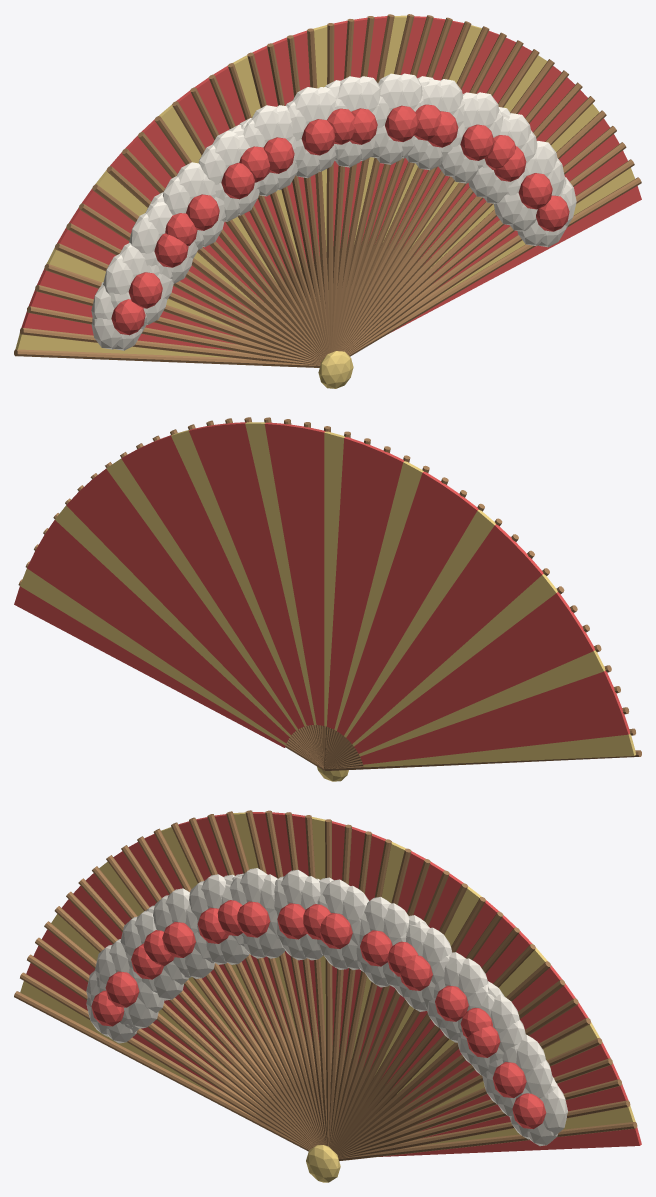
File: buyo_folk_mai_ogi.glb
3 views of the same model, one above another, from view 1: azimuth 30°, elevation 25°; view 2: azimuth 150°, elevation 25°; view 3: azimuth 330°, elevation 25° (orthographic).
Visible parts, largest first — view 1: Nihon buyo silk folding fan carved fan bone, Nihon buyo silk folding fan gold-threaded paper pleat.041, Nihon buyo silk folding fan carved fan bone.041, Nihon buyo silk folding fan carved fan bone.040, Nihon buyo silk folding fan carved fan bone.001, Nihon buyo silk folding fan gold-threaded paper pleat, Nihon buyo silk folding fan carved fan bone.039, Nihon buyo silk folding fan carved fan bone.030, Nihon buyo silk folding fan carved fan bone.035, Nihon buyo silk folding fan carved fan bone.032, Nihon buyo silk folding fan carved fan bone.038, Nihon buyo silk folding fan carved fan bone.033 (+114 smaller); view 2: Nihon buyo silk folding fan gold-threaded paper pleat.021, Nihon buyo silk folding fan gold-threaded paper pleat.022, Nihon buyo silk folding fan gold-threaded paper pleat.018, Nihon buyo silk folding fan gold-threaded paper pleat, Nihon buyo silk folding fan gold-threaded paper pleat.019, Nihon buyo silk folding fan gold-threaded paper pleat.023, Nihon buyo silk folding fan gold-threaded paper pleat.016, Nihon buyo silk folding fan gold-threaded paper pleat.025, Nihon buyo silk folding fan gold-threaded paper pleat.017, Nihon buyo silk folding fan gold-threaded paper pleat.024, Nihon buyo silk folding fan gold-threaded paper pleat.001, Nihon buyo silk folding fan gold-threaded paper pleat.026 (+31 smaller); view 3: Nihon buyo silk folding fan gold-threaded paper pleat.041, Nihon buyo silk folding fan carved fan bone, Nihon buyo silk folding fan carved fan bone.001, Nihon buyo silk folding fan carved fan bone.041, Nihon buyo silk folding fan carved fan bone.002, Nihon buyo silk folding fan carved fan bone.012, Nihon buyo silk folding fan carved fan bone.006, Nihon buyo silk folding fan carved fan bone.003, Nihon buyo silk folding fan carved fan bone.008, Nihon buyo silk folding fan carved fan bone.011, Nihon buyo silk folding fan carved fan bone.009, Nihon buyo silk folding fan carved fan bone.004 (+114 smaller).
Boxes of the visible parts, x1,y1,x2,y2 form: Nihon buyo silk folding fan carved fan bone: [14, 349, 320, 367]; Nihon buyo silk folding fan gold-threaded paper pleat.041: [391, 186, 641, 332]; Nihon buyo silk folding fan carved fan bone.041: [348, 177, 641, 356]; Nihon buyo silk folding fan carved fan bone.040: [348, 159, 634, 354]; Nihon buyo silk folding fan carved fan bone.001: [20, 327, 320, 365]; Nihon buyo silk folding fan gold-threaded paper pleat: [15, 333, 232, 357]; Nihon buyo silk folding fan carved fan bone.039: [347, 142, 626, 354]; Nihon buyo silk folding fan carved fan bone.030: [338, 32, 506, 351]; Nihon buyo silk folding fan carved fan bone.035: [343, 82, 582, 351]; Nihon buyo silk folding fan carved fan bone.032: [340, 49, 539, 351]; Nihon buyo silk folding fan carved fan bone.038: [346, 126, 616, 353]; Nihon buyo silk folding fan carved fan bone.033: [341, 59, 554, 351]; Nihon buyo silk folding fan gold-threaded paper pleat.021: [304, 427, 325, 725]; Nihon buyo silk folding fan gold-threaded paper pleat.022: [284, 424, 321, 725]; Nihon buyo silk folding fan gold-threaded paper pleat.018: [329, 444, 384, 728]; Nihon buyo silk folding fan gold-threaded paper pleat: [363, 734, 635, 767]; Nihon buyo silk folding fan gold-threaded paper pleat.019: [326, 437, 365, 727]; Nihon buyo silk folding fan gold-threaded paper pleat.023: [264, 422, 318, 724]; Nihon buyo silk folding fan gold-threaded paper pleat.016: [334, 461, 423, 730]; Nihon buyo silk folding fan gold-threaded paper pleat.025: [226, 422, 313, 724]; Nihon buyo silk folding fan gold-threaded paper pleat.017: [332, 452, 404, 729]; Nihon buyo silk folding fan gold-threaded paper pleat.024: [245, 422, 316, 724]; Nihon buyo silk folding fan gold-threaded paper pleat.001: [362, 712, 629, 764]; Nihon buyo silk folding fan gold-threaded paper pleat.026: [207, 423, 311, 725]; Nihon buyo silk folding fan gold-threaded paper pleat.041: [379, 1127, 641, 1156]; Nihon buyo silk folding fan carved fan bone: [14, 991, 309, 1151]; Nihon buyo silk folding fan carved fan bone.001: [20, 972, 310, 1149]; Nihon buyo silk folding fan carved fan bone.041: [338, 1122, 637, 1161]; Nihon buyo silk folding fan carved fan bone.002: [27, 954, 311, 1148]; Nihon buyo silk folding fan carved fan bone.012: [153, 828, 320, 1144]; Nihon buyo silk folding fan carved fan bone.006: [66, 891, 315, 1146]; Nihon buyo silk folding fan carved fan bone.003: [35, 937, 312, 1148]; Nihon buyo silk folding fan carved fan bone.008: [92, 866, 316, 1145]; Nihon buyo silk folding fan carved fan bone.011: [137, 836, 319, 1144]; Nihon buyo silk folding fan carved fan bone.009: [106, 855, 317, 1144]; Nihon buyo silk folding fan carved fan bone.004: [44, 921, 313, 1147].
Bounding box in the file's own units: 1.95 × 1.07 × 0.1182.
